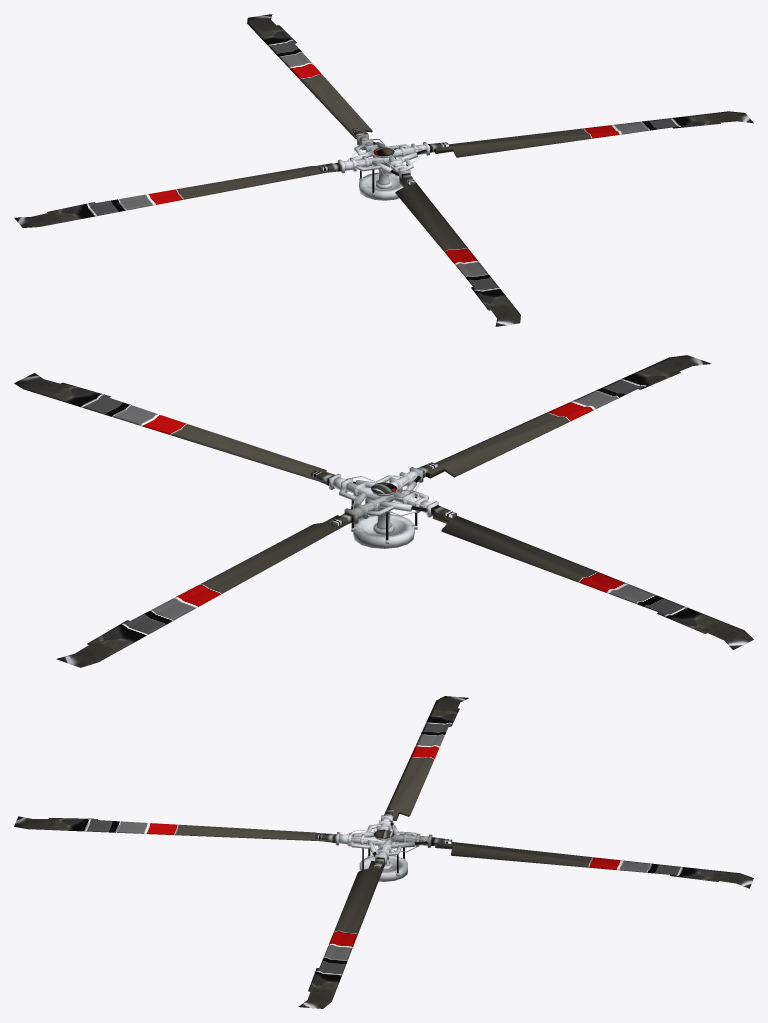
File: Helices.obj
3 views of the same model, one above another, from view 1: azimuth 30°, elevation 25°; view 2: azimuth 150°, elevation 25°; view 3: azimuth 270°, elevation 25° (orthographic). The views are drawn at different scales.
Parts seen in each view (by area): view 1: Helices; view 2: Helices; view 3: Helices.
Part boxes in pixels (x1=…): Helices: x1=14, y1=14, x2=753, y2=326; Helices: x1=14, y1=355, x2=753, y2=667; Helices: x1=14, y1=696, x2=753, y2=1008.
Size of the model in its own units: 78.62 by 4.74 by 78.62.
